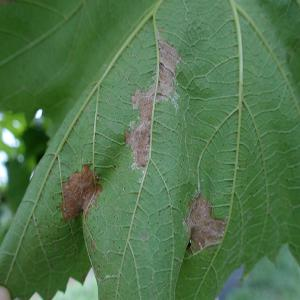Folha: (0, 0, 299, 298)
Fungo: (114, 30, 185, 296), (123, 31, 182, 172), (183, 191, 227, 255), (57, 163, 102, 223)
